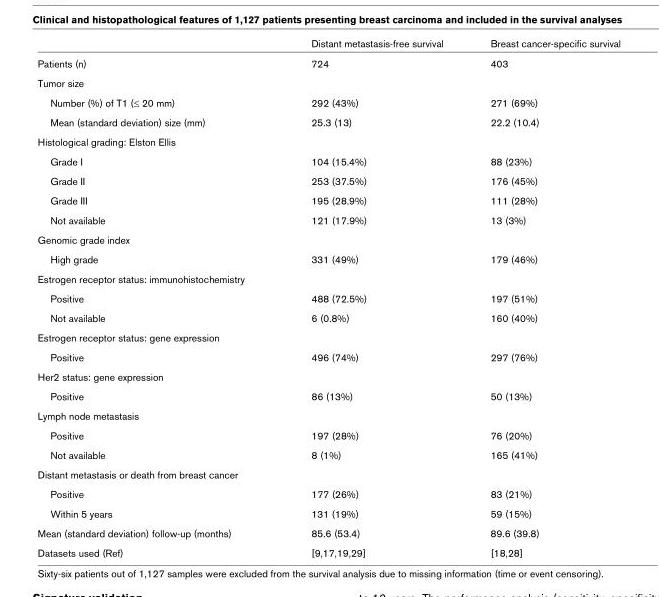table: (36, 36, 619, 558)
table column: (36, 36, 277, 558), (277, 36, 466, 558), (466, 36, 619, 558)
table column header: (36, 36, 619, 52)
table projected row header: (36, 72, 619, 92), (36, 131, 619, 151), (36, 268, 619, 288), (36, 405, 619, 425), (36, 229, 619, 248), (36, 327, 619, 346), (36, 366, 619, 385), (36, 464, 619, 483)
table row: (36, 52, 619, 72), (36, 72, 619, 92), (36, 111, 619, 131), (36, 131, 619, 151), (36, 170, 619, 190), (36, 209, 619, 229), (36, 248, 619, 268), (36, 268, 619, 288), (36, 307, 619, 327), (36, 346, 619, 366), (36, 385, 619, 405), (36, 405, 619, 425), (36, 444, 619, 464), (36, 483, 619, 503), (36, 503, 619, 523), (36, 92, 619, 111), (36, 151, 619, 170), (36, 190, 619, 209), (36, 229, 619, 248), (36, 288, 619, 307), (36, 327, 619, 346), (36, 366, 619, 385), (36, 425, 619, 444), (36, 464, 619, 483), (36, 523, 619, 542), (36, 36, 619, 52), (36, 542, 619, 558)
